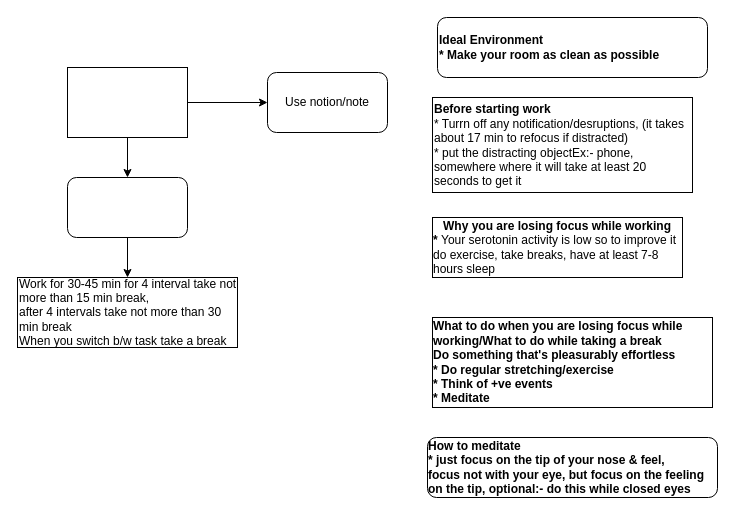
The diagram is 735 pixels wide and 515 high, and some of its shapes have lost their labels. Here are the shapes that lost their labels. From the top down, the centre of each, then its label:
At point (127, 102): "Write your goal in whatever task you want to accomplish no matter the time frame".
At point (127, 207): "Filter out the most important task & work on that first".
